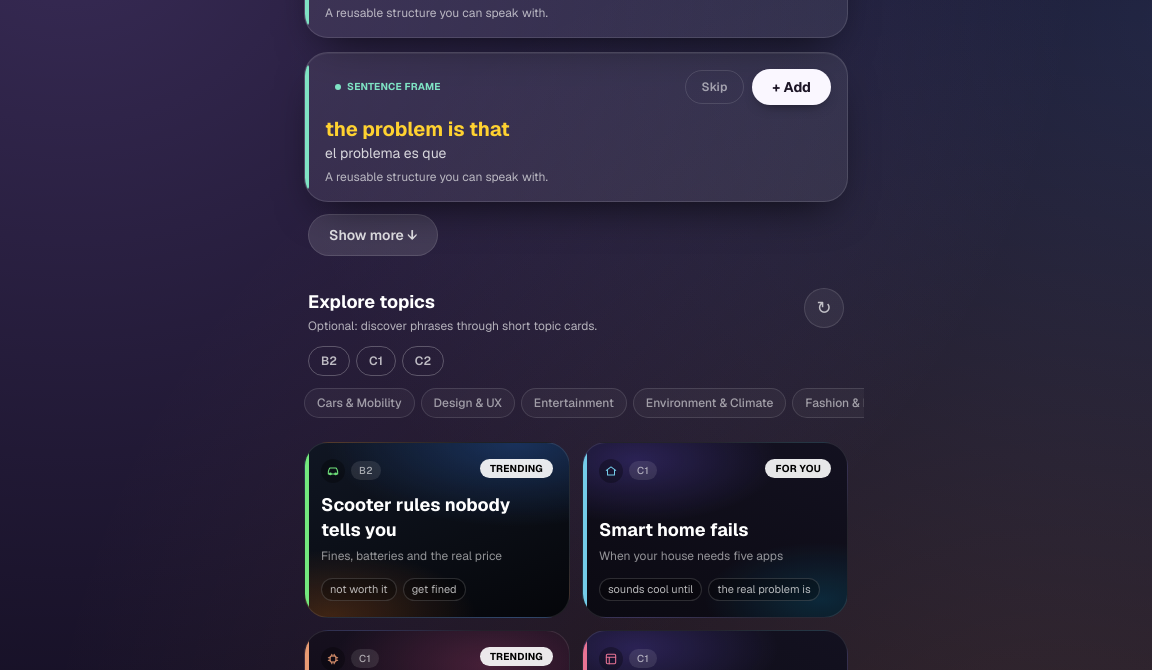
Test: home / topic grid › filtering by a level only shows tiles of that level
This screenshot has width=1152, height=670.
(page scrolled)
Click the button with test id "filter-level-C2": {"x": 423, "y": 360} x1=402 y1=346 x2=444 y2=376
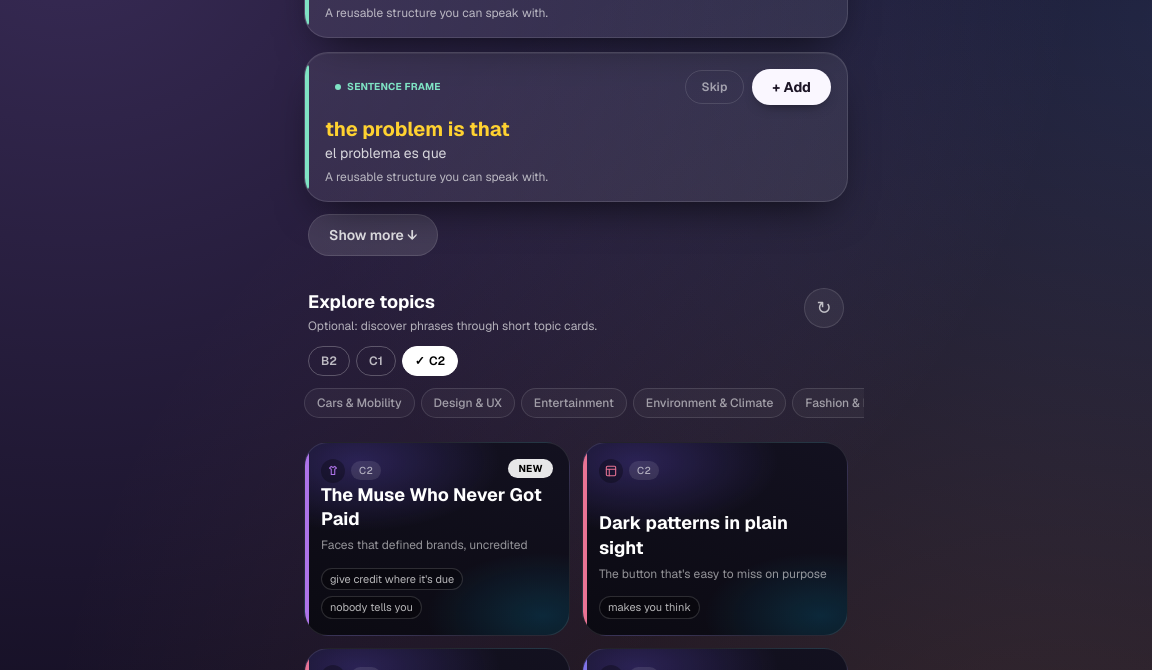
Result: the link with test id "^topic-tile-" is shown at x1=304 y1=442 x2=570 y2=636
